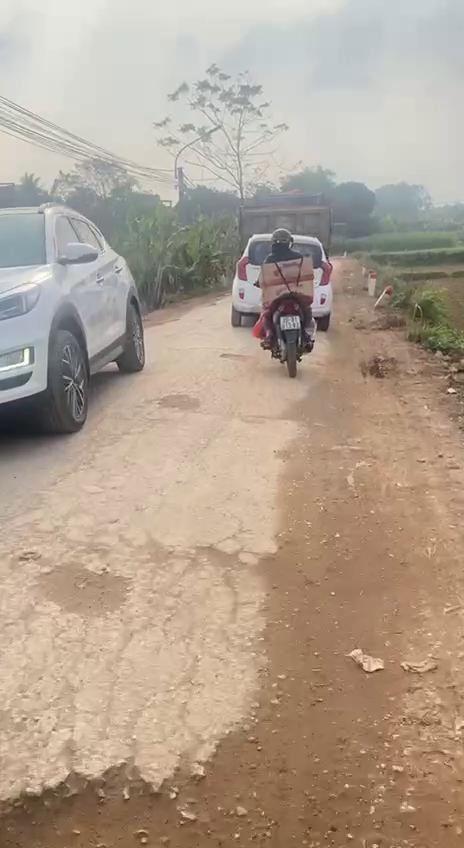pothole: (0, 727, 389, 848), (33, 562, 142, 629), (145, 533, 274, 589), (156, 393, 206, 414)
